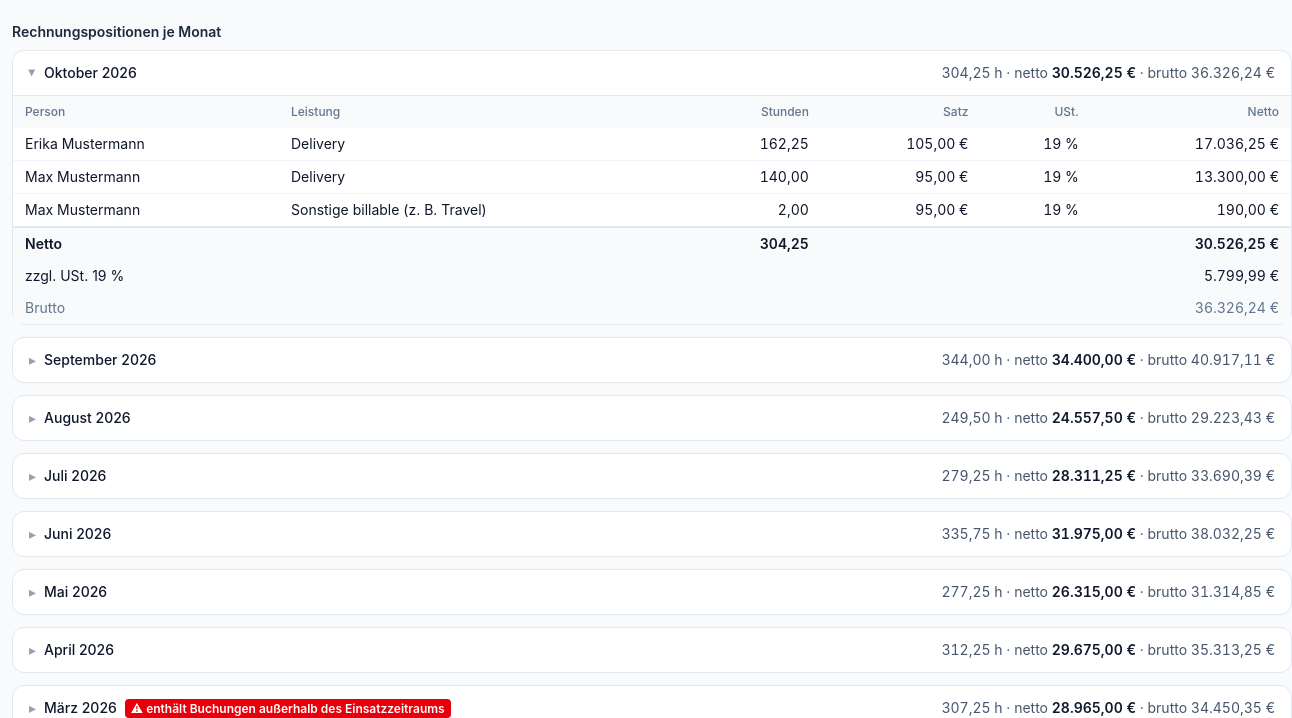
Test: InvoiceView › öffnet Monatsdetails mit Leistung, Satz-Anteil und USt.-Gruppen
(page scrolled)
Click the text "September 2026" at (93,360), box x1=29 y1=350 x2=156 y2=370
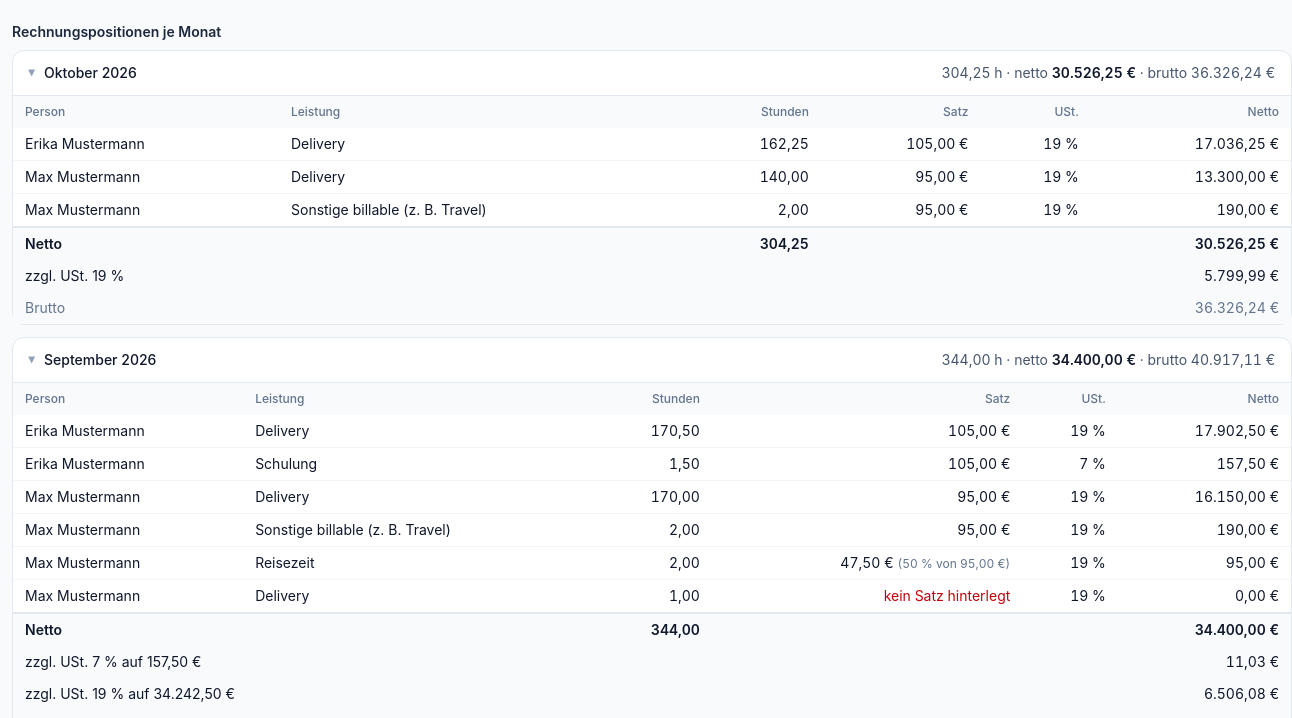
Expected: the text "Schulung" is shown, x1=243 y1=448 x2=595 y2=480
Expected: the text "zzgl. USt. 7 % auf 157,50 €" is shown, x1=13 y1=646 x2=595 y2=678
Expected: the text "(50 % von 95,00 €)" is shown, x1=898 y1=556 x2=1010 y2=571
